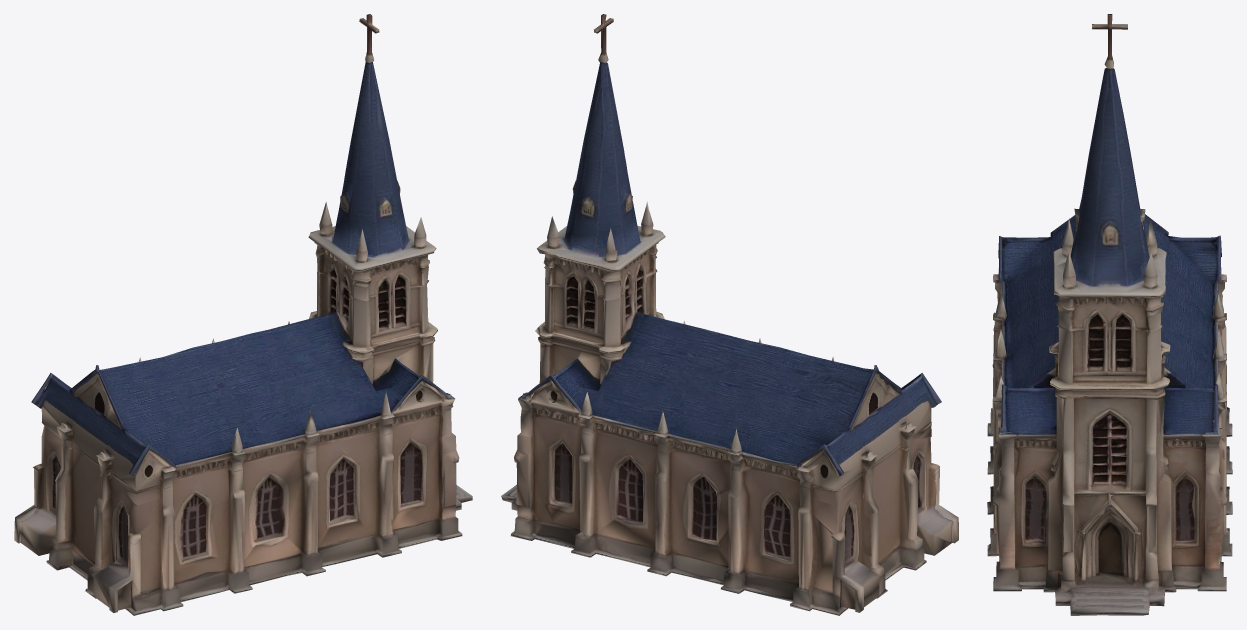
The model's file is church.glb.
3 renders of one model, left to right at view 1: azimuth 30°, elevation 25°; view 2: azimuth 150°, elevation 25°; view 3: azimuth 270°, elevation 25°, orthographic. The views are drawn at different scales.
Visible parts, largest first — view 1: Object_4; view 2: Object_4; view 3: Object_4.
Boxes of the visible parts, x1,y1,x2,y2 form: Object_4: (14, 14, 472, 615); Object_4: (501, 14, 958, 615); Object_4: (987, 14, 1232, 615).
Size of the model in its own units: 0.8304 by 0.9999 by 0.401.
1 material, 1 textured.
